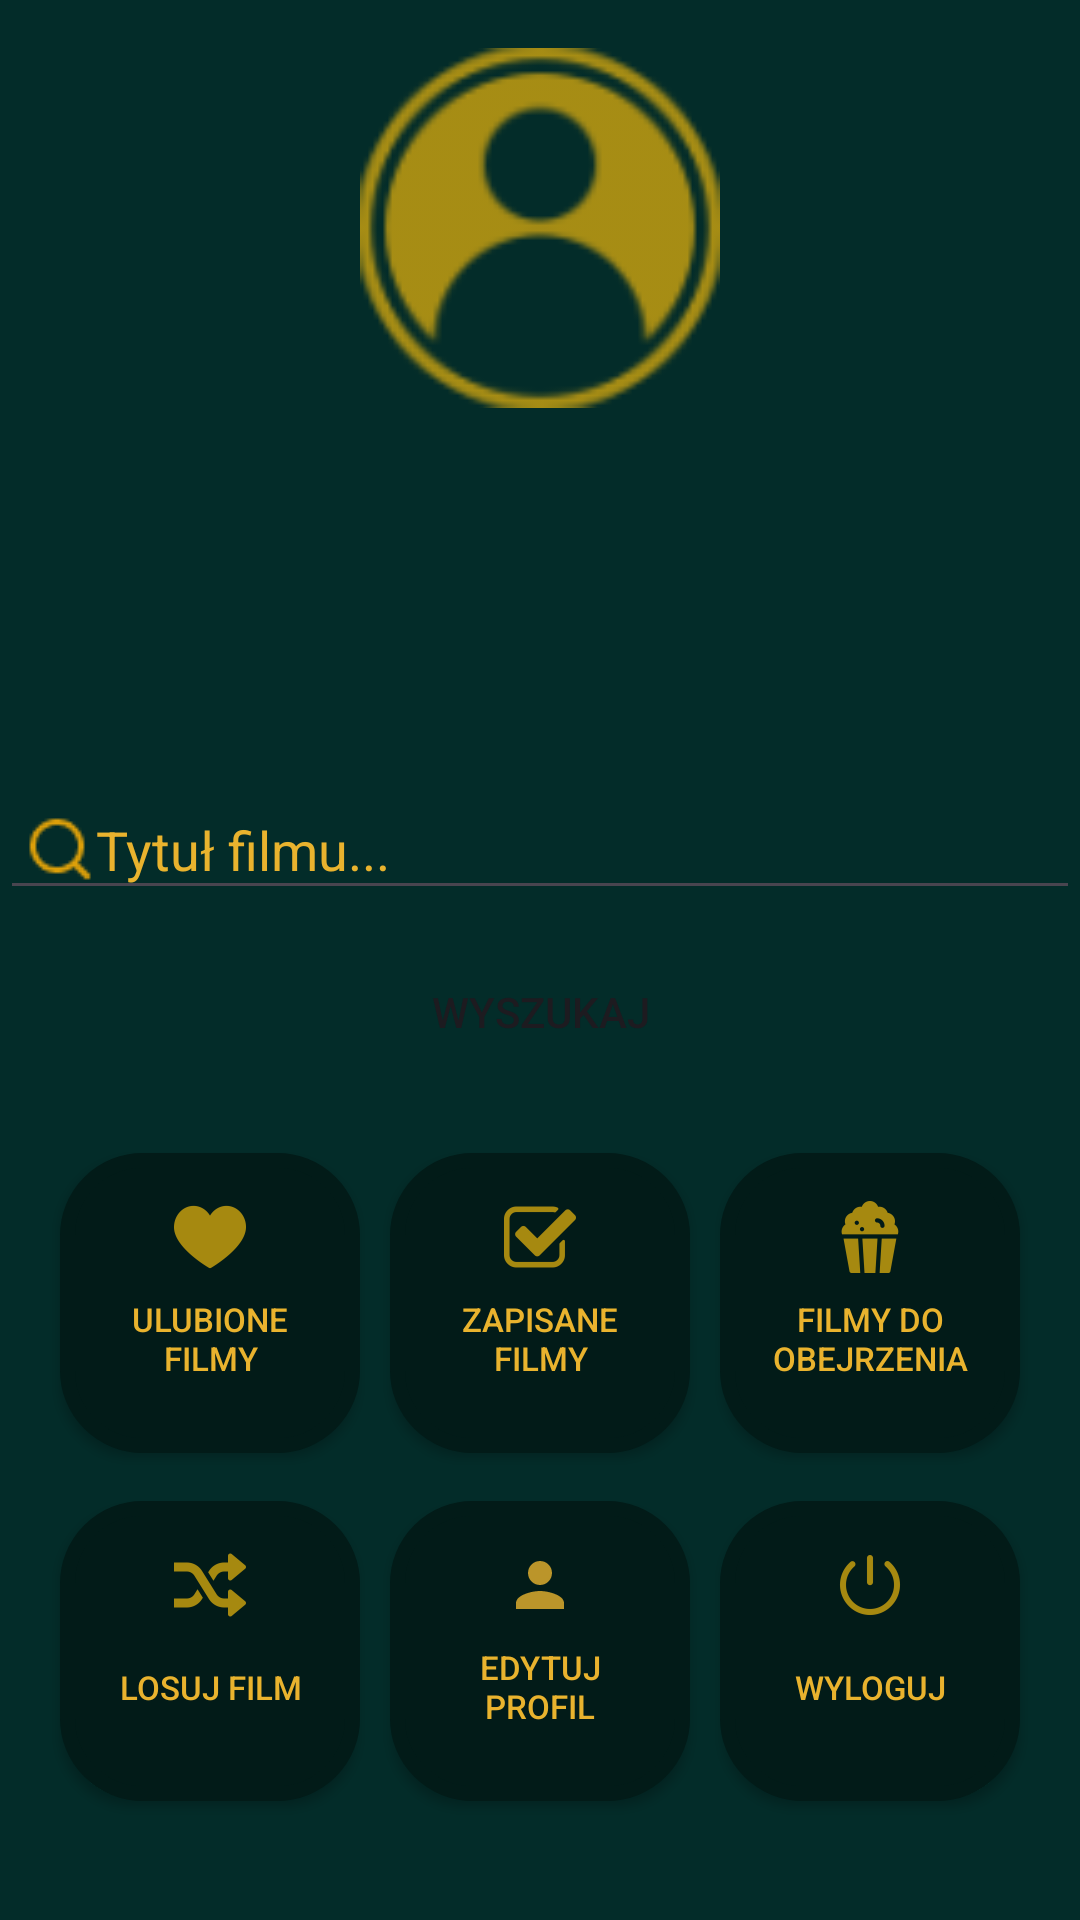

Where to tap for icons on this 1080px x 1920px app screen, as (x=x, y=y):
profile: (x=540, y=228)
